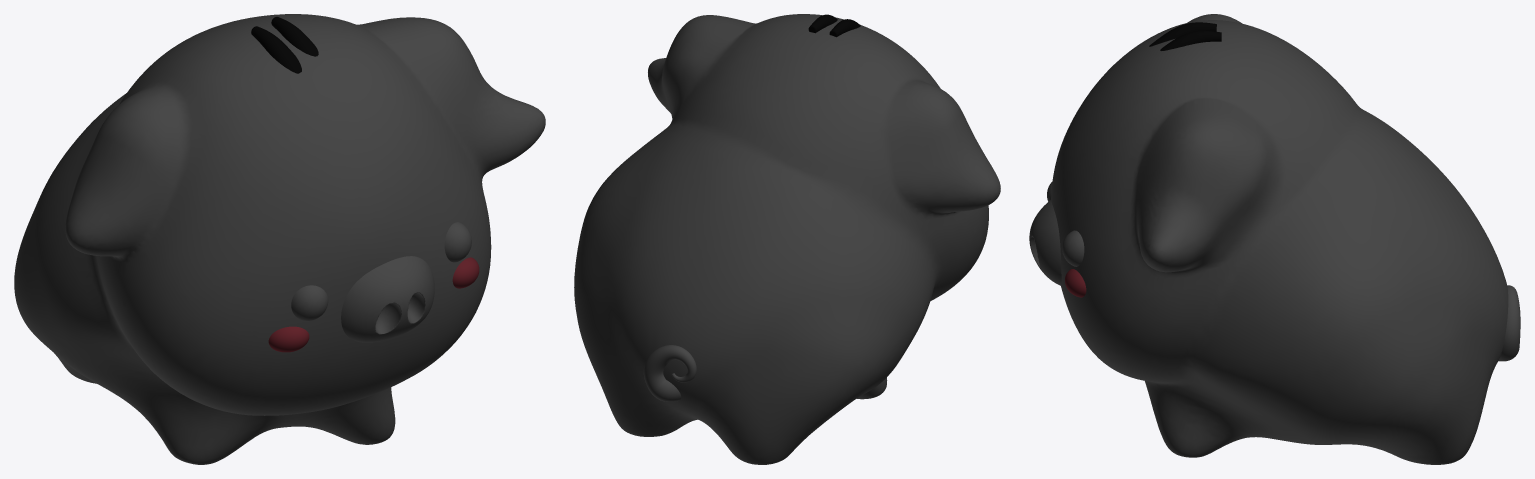
The model's file is piggyOBJ.glb.
The picture shows the model from 3 angles, left to right: view 1: azimuth 30°, elevation 25°; view 2: azimuth 150°, elevation 25°; view 3: azimuth 270°, elevation 25°; orthographic projection. The views are drawn at different scales.
Visible parts, largest first — view 1: piggyOBJ.obj; view 2: piggyOBJ.obj; view 3: piggyOBJ.obj.
Boxes of the visible parts, <box> form: piggyOBJ.obj: <box>14,14,545,464</box>; piggyOBJ.obj: <box>574,14,1000,464</box>; piggyOBJ.obj: <box>1029,14,1520,464</box>.
Bounding box in the file's own units: 1.22 × 1.1 × 1.27.
Materials: 1 (1 with a texture image).
